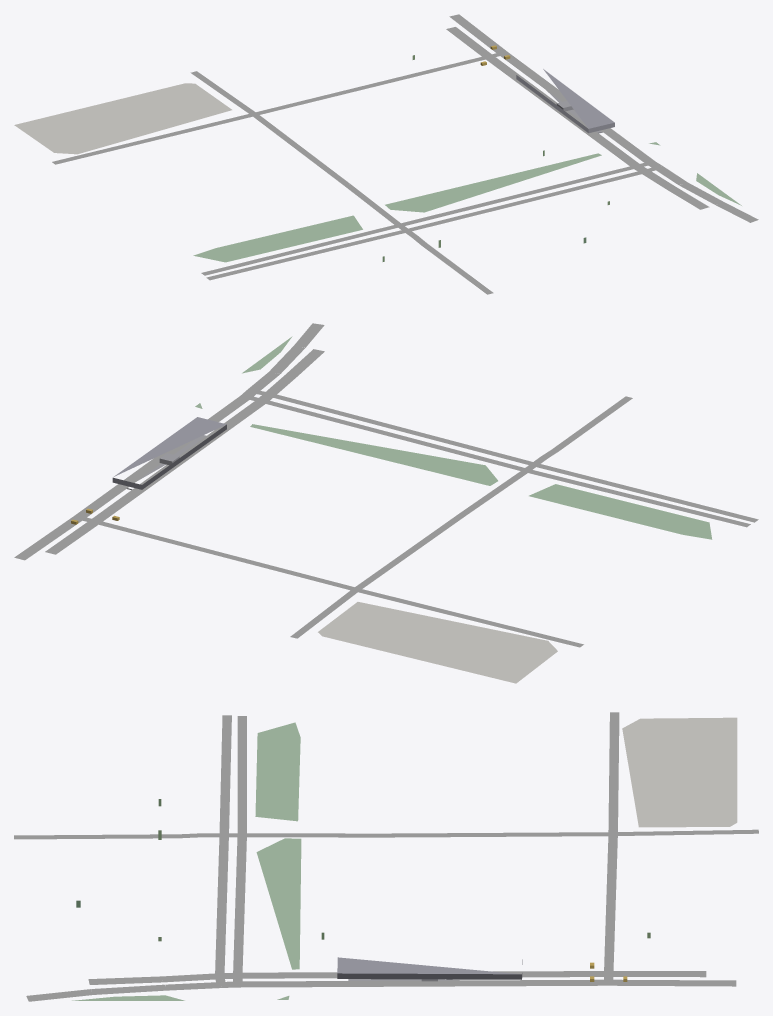
3 views of the same model, one above another, from view 1: azimuth 30°, elevation 25°; view 2: azimuth 150°, elevation 25°; view 3: azimuth 270°, elevation 25° (orthographic). The views are drawn at different scales.
Size of the model in its own units: 504 by 15.4 by 548.
